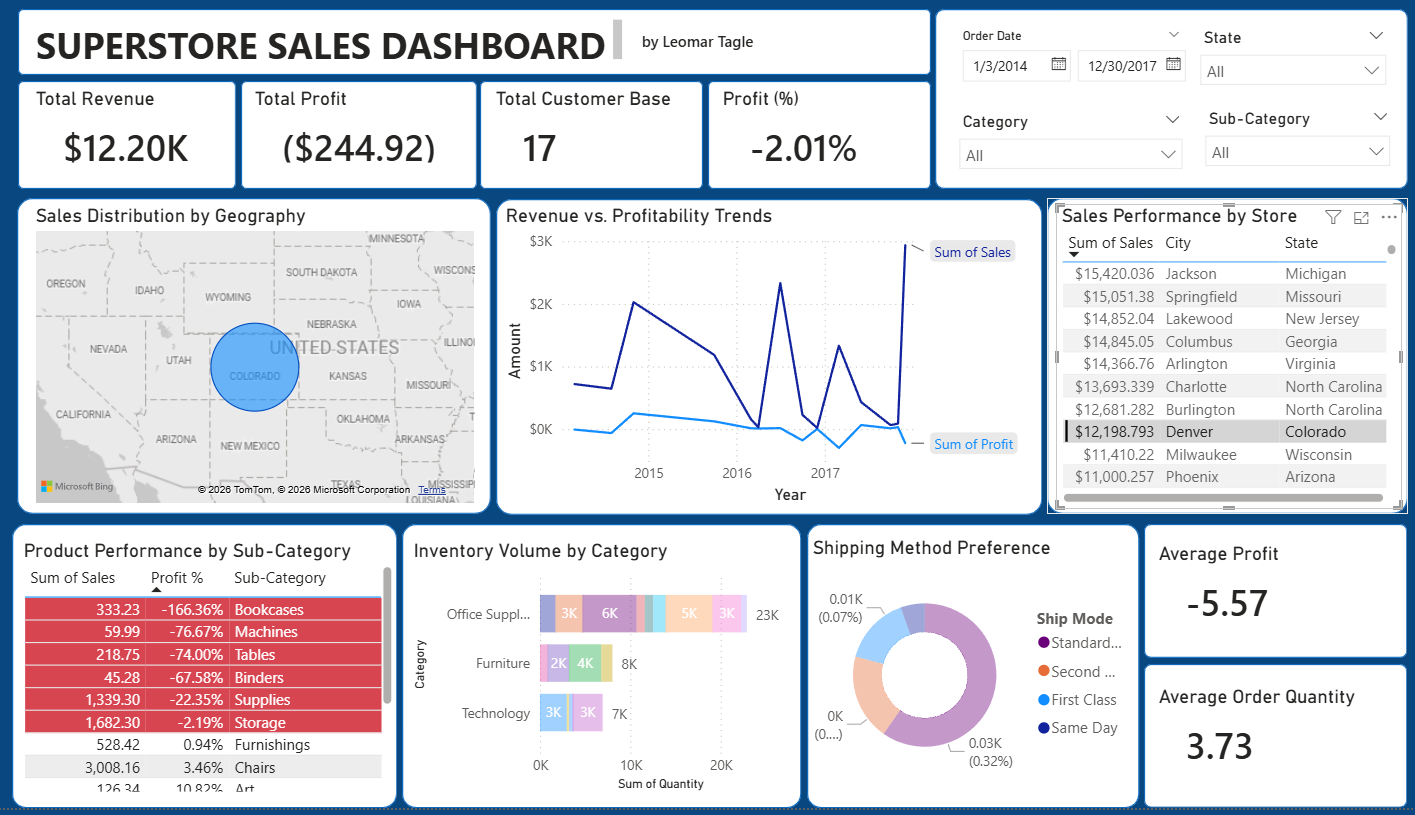

What the dashboard file says about the page in this screenshot:
{"tool":"powerbi","page":{"name":"Page 1","canvas":[1280,720],"ordinal":0},"visuals":[{"type":"shape","box":[1027.1,592.3,233.4,127.4],"z":0},{"type":"shape","box":[1027.1,467.8,233.4,118.7],"z":1000},{"type":"shape","box":[727.5,467.8,294.7,251.9],"z":2000},{"type":"shape","box":[368.6,467.8,354,251.9],"z":3000},{"type":"shape","box":[23.3,467.8,341.4,251.9],"z":4000},{"type":"shape","box":[940.5,179,320,280.1],"z":5000},{"type":"shape","box":[452.3,179.9,484.4,280.1],"z":6000},{"type":"shape","box":[27.2,179,420.2,280.1],"z":7000},{"type":"shape","box":[841.5,11.5,419.4,159.6],"z":8000},{"type":"shape","box":[28.4,11.5,809.6,58.5],"z":9000},{"type":"shape","box":[640.2,75.4,197.7,95.8],"z":10000},{"type":"shape","box":[438,75.4,197.7,95.8],"z":11000},{"type":"shape","box":[226.1,75.4,209.3,95.8],"z":12000},{"type":"shape","box":[28.4,75.4,193.3,95.8],"z":13000},{"type":"cardVisual","title":"Total Profit","fields":{"Data":["Sum(Sample - Superstore.Profit)"]},"box":[233.2,80.7,197.7,84.2],"z":14000},{"type":"cardVisual","title":"Total Revenue","fields":{"Data":["Sum(Sample - Superstore.Sales)"]},"box":[39,80.7,176.5,84.2],"z":15000},{"type":"cardVisual","title":"\tTotal Customer Base","fields":{"Data":["Count(Sample - Superstore.Customer ID)"]},"box":[446.9,80.7,180,84.2],"z":16000},{"type":"slicer","fields":{"Values":["Sample - Superstore.State"]},"box":[1067,24.3,184.8,62.2],"z":17000},{"type":"slicer","fields":{"Values":["Sample - Superstore.Order Date"]},"box":[853,24.3,217.9,73.9],"z":18000},{"type":"map","title":"\tSales Distribution by Geography","fields":{"Category":["Sample - Superstore.State","Sample - Superstore.City"],"Size":["Sum(Sample - Superstore.Sales)"]},"box":[38.9,184.8,398.8,270.4],"z":19000},{"type":"lineChart","title":"Revenue vs. Profitability Trends","fields":{"Y":["Sum(Sample - Superstore.Profit)","Sum(Sample - Superstore.Sales)"],"Category":["Sample - Superstore.Order Date.Variation.Date Hierarchy.Year","Sample - Superstore.Order Date.Variation.Date Hierarchy.Month"]},"box":[456.2,184.8,466.9,270.4],"z":20000},{"type":"tableEx","title":"Sales Performance by Store","fields":{"Values":["Sum(Sample - Superstore.Sales)","Sample - Superstore.City","Sample - Superstore.State"]},"box":[948.8,184.4,306.8,270.4],"z":21000},{"type":"donutChart","title":"\tShipping Method Preference","fields":{"Category":["Sample - Superstore.Ship Mode"],"Y":["CountNonNull(Sample - Superstore.Customer ID)"]},"box":[727.5,478.5,294.7,227.6],"z":22000},{"type":"slicer","fields":{"Values":["Sample - Superstore.Category"]},"box":[853,98.4,218.1,61.2],"z":23000},{"type":"barChart","title":"\tInventory Volume by Category","fields":{"Category":["Sample - Superstore.Category"],"Y":["Sum(Sample - Superstore.Quantity)"],"Series":["Sample - Superstore.Sub-Category"]},"box":[374.2,481.5,346.7,227.9],"z":24000},{"type":"cardVisual","title":"Average Order Quantity","fields":{"Data":["Avg(Sample - Superstore.Quantity)"]},"box":[1034.9,610.8,216.9,83.6],"z":25000},{"type":"cardVisual","title":"Average Profit","fields":{"Data":["Avg(Sample - Superstore.Profit)"]},"box":[1034.9,484.4,216.9,83.6],"z":26000},{"type":"slicer","fields":{"Values":["Sample - Superstore.Sub-Category"]},"box":[1071.1,95.8,184.4,63.8],"z":27000},{"type":"cardVisual","title":"Profit (%)","fields":{"Data":["Sample - Superstore.Sum of Profit divided by Sum of Sales 2"]},"box":[648.2,80.7,179.1,84.2],"z":28000},{"type":"textbox","box":[39,16,530.2,48.8],"z":29000},{"type":"tableEx","title":"Product Performance by Sub-Category","fields":{"Values":["Sum(Sample - Superstore.Sales)","Sample - Superstore.Sum of Profit divided by Sum of Sales 2","Sample - Superstore.Sub-Category"]},"box":[28.4,481.5,336.9,228.8],"z":30000},{"type":"textbox","box":[576.4,26.6,127.7,27.5],"z":31000}]}

Visuals, with their boxes in screenshot pixels (x1, y1, x2, y2), scaled from the page's 1280x720 canvas onto the 1415x815 screenshot:
shape: box(1135, 670, 1393, 814)
shape: box(1135, 530, 1393, 664)
shape: box(804, 530, 1130, 814)
shape: box(407, 530, 799, 814)
shape: box(26, 530, 403, 814)
shape: box(1040, 203, 1393, 520)
shape: box(500, 204, 1035, 521)
shape: box(30, 203, 495, 520)
shape: box(930, 13, 1394, 194)
shape: box(31, 13, 926, 79)
shape: box(708, 85, 926, 194)
shape: box(484, 85, 703, 194)
shape: box(250, 85, 481, 194)
shape: box(31, 85, 245, 194)
"Total Profit" cardVisual: box(258, 91, 476, 187)
"Total Revenue" cardVisual: box(43, 91, 238, 187)
"	Total Customer Base" cardVisual: box(494, 91, 693, 187)
slicer - Sample - Superstore.State: box(1180, 28, 1384, 98)
slicer - Sample - Superstore.Order Date: box(943, 28, 1184, 111)
"	Sales Distribution by Geography" map: box(43, 209, 484, 515)
"Revenue vs. Profitability Trends" lineChart: box(504, 209, 1020, 515)
"Sales Performance by Store" tableEx: box(1049, 209, 1388, 515)
"	Shipping Method Preference" donutChart: box(804, 542, 1130, 799)
slicer - Sample - Superstore.Category: box(943, 111, 1184, 181)
"	Inventory Volume by Category" barChart: box(414, 545, 797, 803)
"Average Order Quantity" cardVisual: box(1144, 691, 1384, 786)
"Average Profit" cardVisual: box(1144, 548, 1384, 643)
slicer - Sample - Superstore.Sub-Category: box(1184, 108, 1388, 181)
"Profit (%)" cardVisual: box(717, 91, 915, 187)
textbox: box(43, 18, 629, 73)
"Product Performance by Sub-Category" tableEx: box(31, 545, 404, 804)
textbox: box(637, 30, 778, 61)
